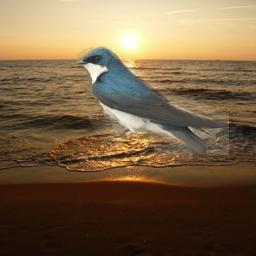Swallow: (77, 46, 229, 155)
